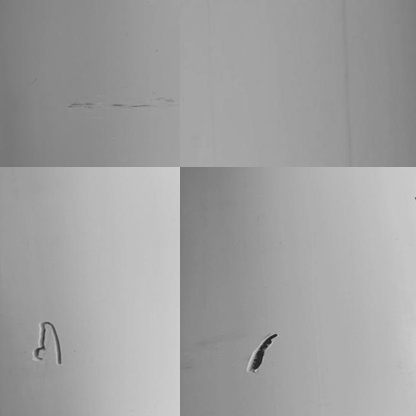fengxi: (29, 313, 71, 370)
kongdong: (240, 327, 280, 374)
